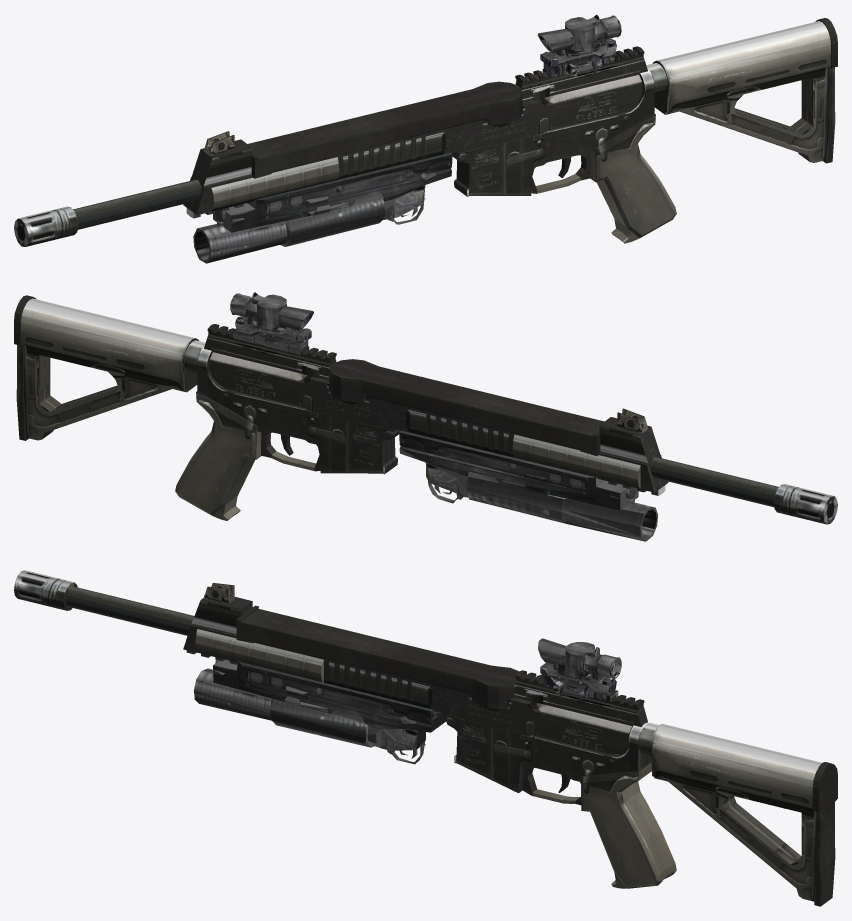
Rendered from w_ar57_susat_gl.obj.
3 renders of one model, top to bottom at view 1: azimuth 30°, elevation 25°; view 2: azimuth 150°, elevation 25°; view 3: azimuth 330°, elevation 25°, orthographic.
Visible parts, largest first — view 1: Cube_Cube.001, W_Gl5040, W_Susat; view 2: Cube_Cube.001, W_Gl5040, W_Susat; view 3: Cube_Cube.001, W_Gl5040, W_Susat.
Part boxes in pixels (x1,y1,x2,y2): Cube_Cube.001: [14, 18, 837, 246]; W_Gl5040: [193, 153, 452, 263]; W_Susat: [537, 14, 621, 78]; Cube_Cube.001: [14, 295, 837, 524]; W_Gl5040: [399, 430, 657, 541]; W_Susat: [230, 292, 313, 354]; Cube_Cube.001: [14, 570, 837, 906]; W_Gl5040: [193, 659, 446, 764]; W_Susat: [538, 638, 621, 702].
Bounding box in the file's own units: 13.44 × 3.66 × 0.8103.
